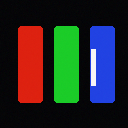4 line_v: (91, 49, 95, 85)
